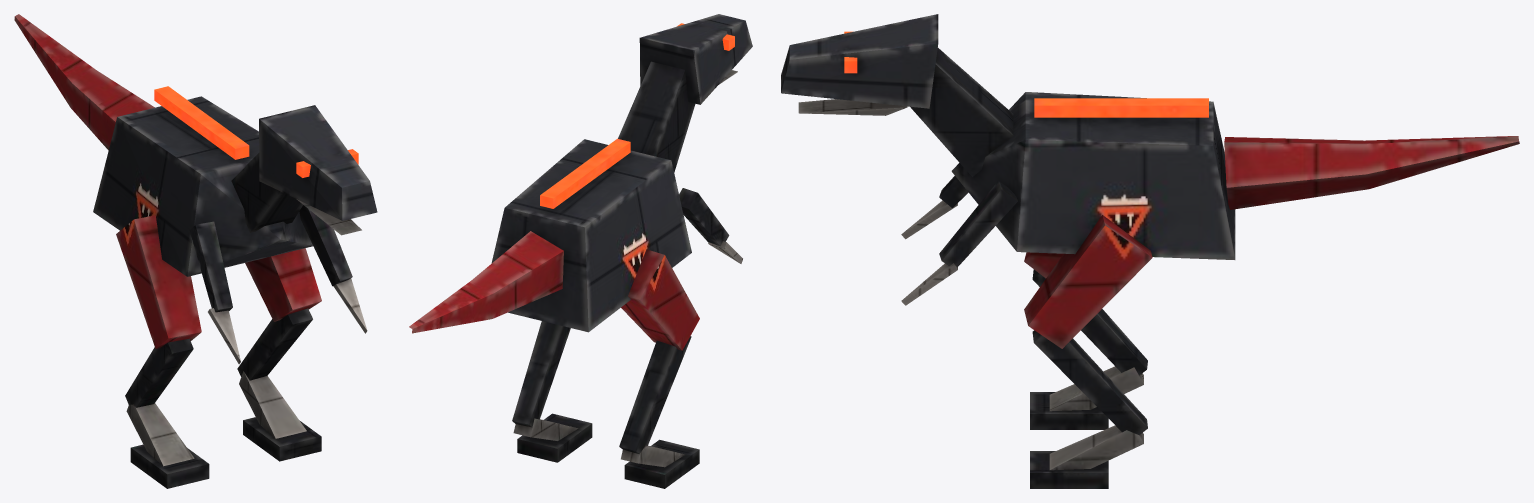
The model's file is s_raptor_e.glb.
3 views of the same model, side by side, from view 1: azimuth 30°, elevation 25°; view 2: azimuth 150°, elevation 25°; view 3: azimuth 270°, elevation 25° (orthographic). The views are drawn at different scales.
Visible parts, largest first — view 1: s_raptor_e; view 2: s_raptor_e; view 3: s_raptor_e.
Boxes of the visible parts, <box> form: s_raptor_e: <box>14,14,377,488</box>; s_raptor_e: <box>409,14,752,488</box>; s_raptor_e: <box>781,14,1519,488</box>.
Bounding box in the file's own units: 0.484 × 1.17 × 1.86.
Materials: 1 (1 with a texture image).
